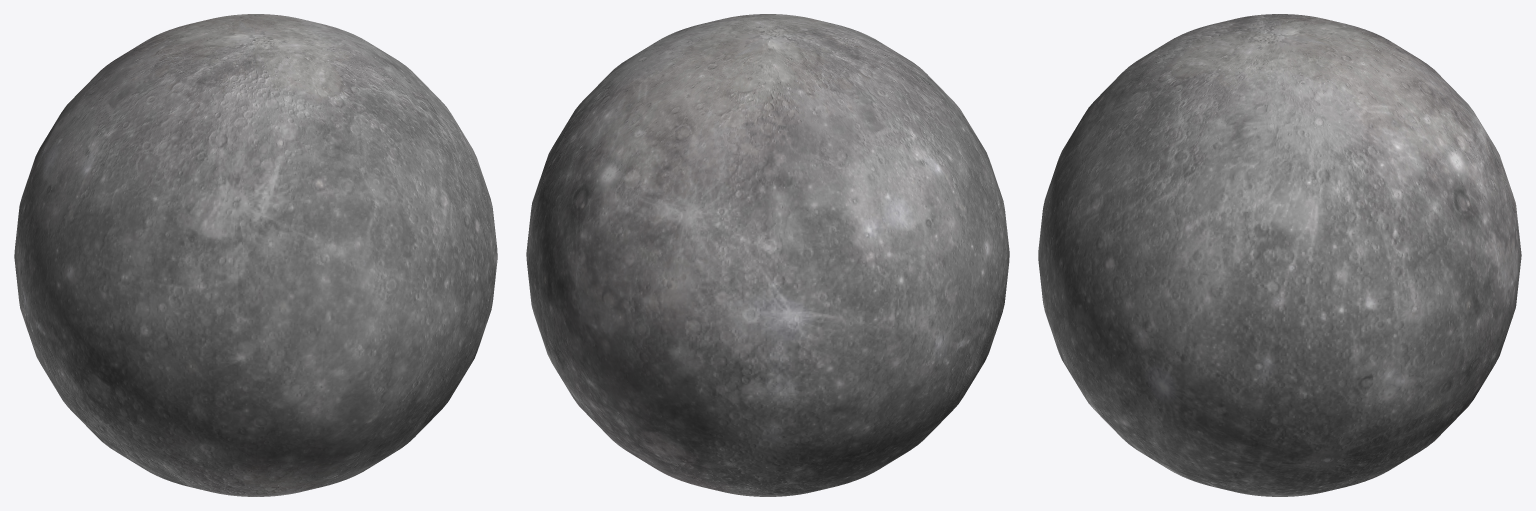
The model's file is Mercury.fbx.
3 renders of one model, left to right at view 1: azimuth 30°, elevation 25°; view 2: azimuth 150°, elevation 25°; view 3: azimuth 270°, elevation 25°, orthographic.
Parts seen in each view (by area): view 1: Sphere; view 2: Sphere; view 3: Sphere.
Boxes of the visible parts, x1,y1,x2,y2 form: Sphere: (14,14,497,496); Sphere: (526,14,1009,496); Sphere: (1038,14,1521,496).
Size of the model in its own units: 200 by 200 by 200.
Materials: 1 (1 with a texture image).
